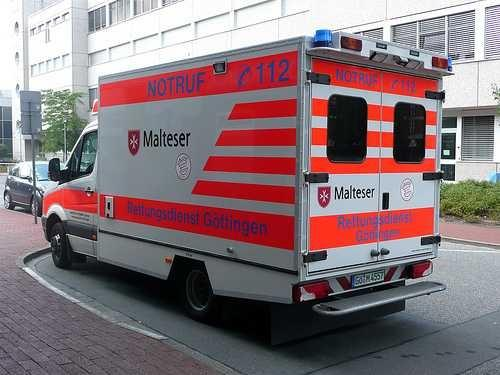car: (39, 28, 454, 346)
